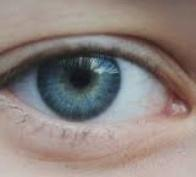eye: (38, 53, 121, 120)
